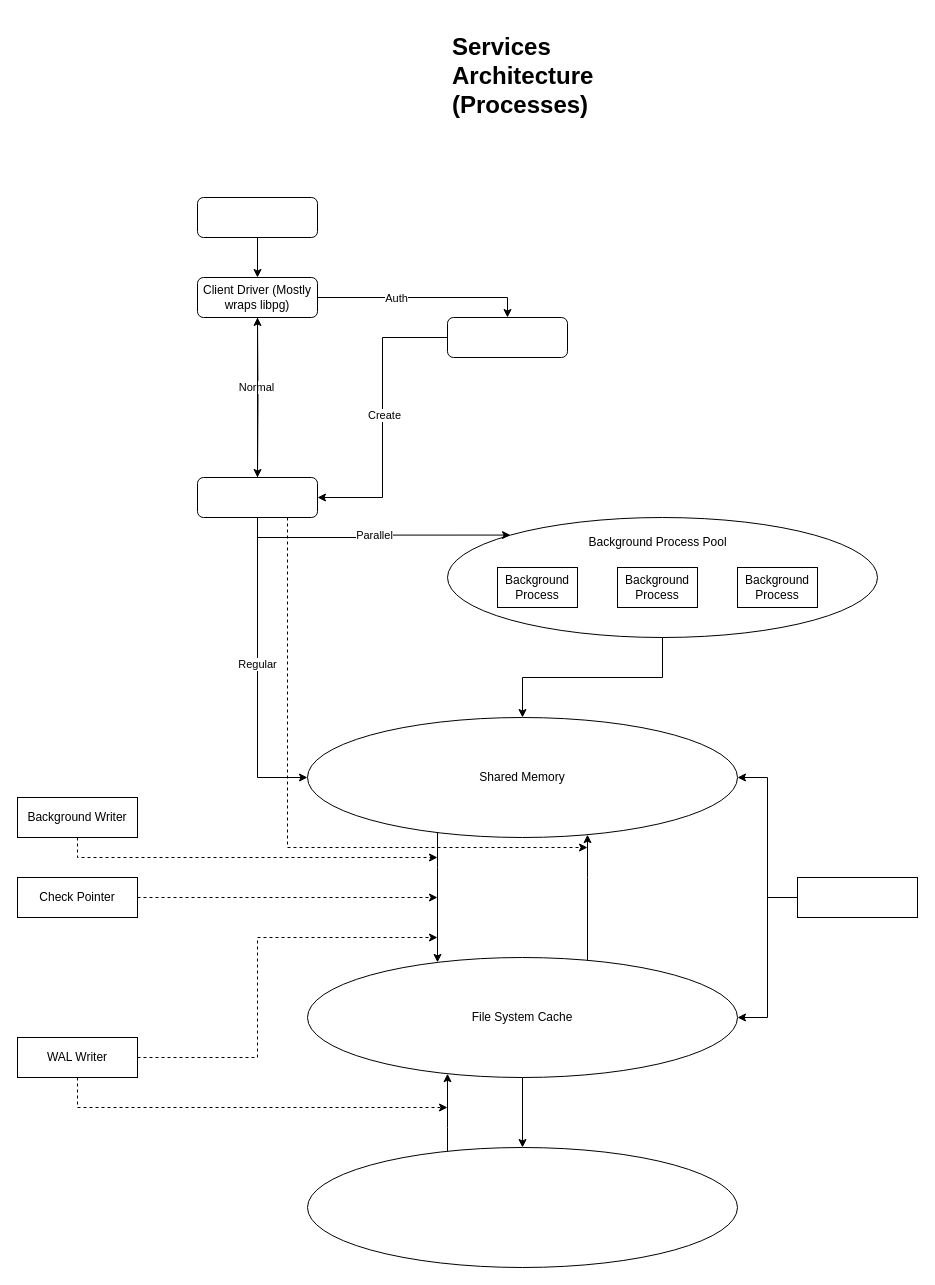
The diagram is 935 pixels wide and 1285 high, and some of its shapes have lost their labels. Here are the shapes that lost their labels. From the top down, the centre of each, then its label:
At pixel 257 217: "Client".
At pixel 507 337: "Postgres (Postmaster)".
At pixel 257 497: "Single Backend (per connection)".
At pixel 857 897: "Auto VACUUM Launcher".
At pixel 522 1207: "File System Disk".
